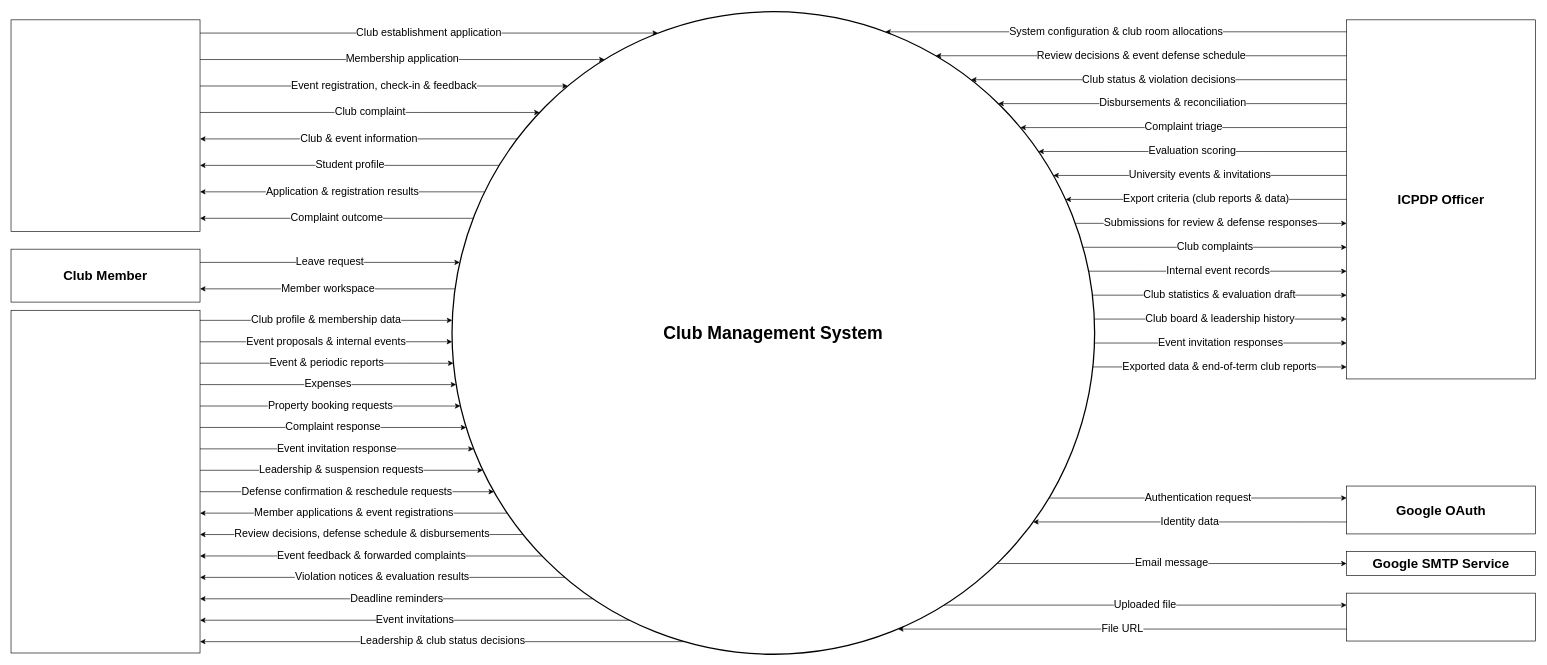
The diagram is 1547 pixels wide and 665 high, and some of its shapes have lost their labels. Here are the shapes that lost their labels. From the top down, the box of each, then its label:
(10, 19, 200, 232): Student
(10, 310, 200, 653): Club Leader
(1346, 593, 1536, 641): Cloudinary
